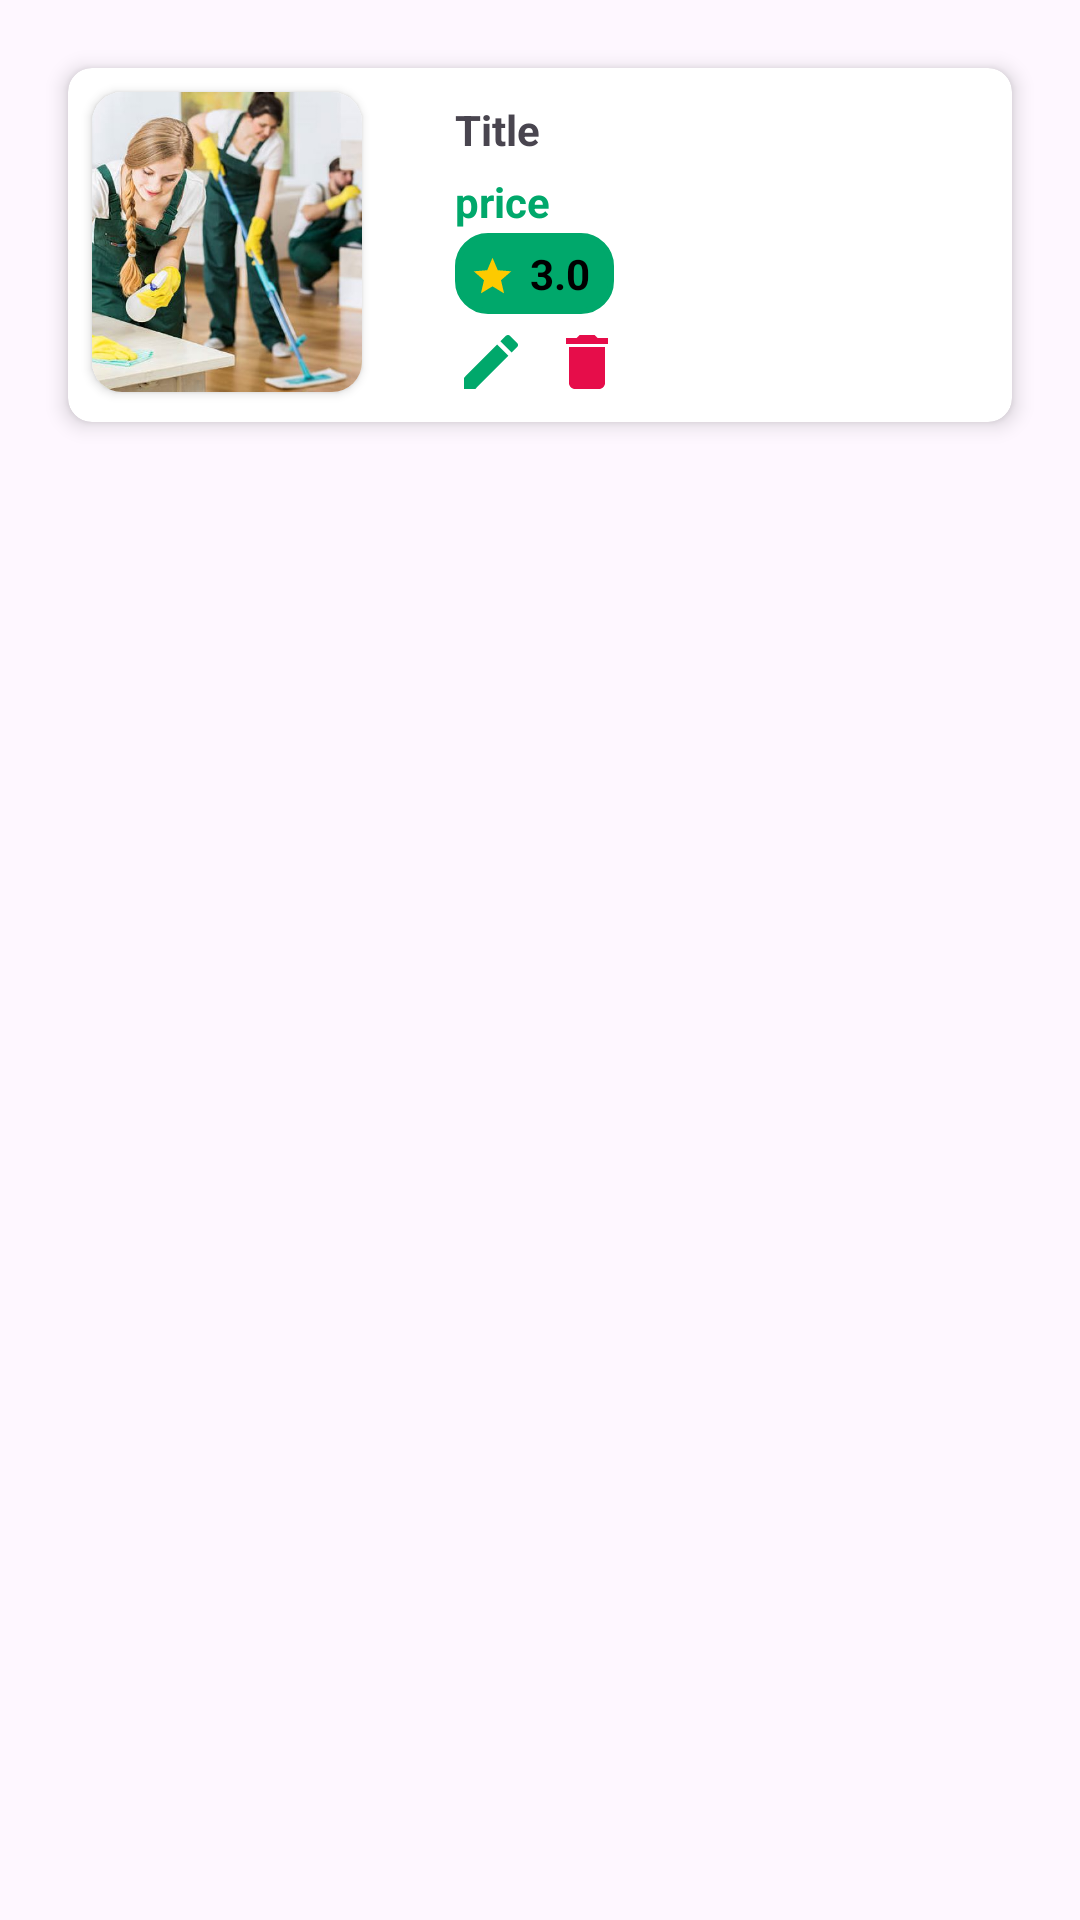

Screen size 1080 x 1920. Icon name, then its box in pixels as (x1, y1, x2, y2):
cleaning: (92, 92, 362, 392)
star: (474, 258, 511, 293)
